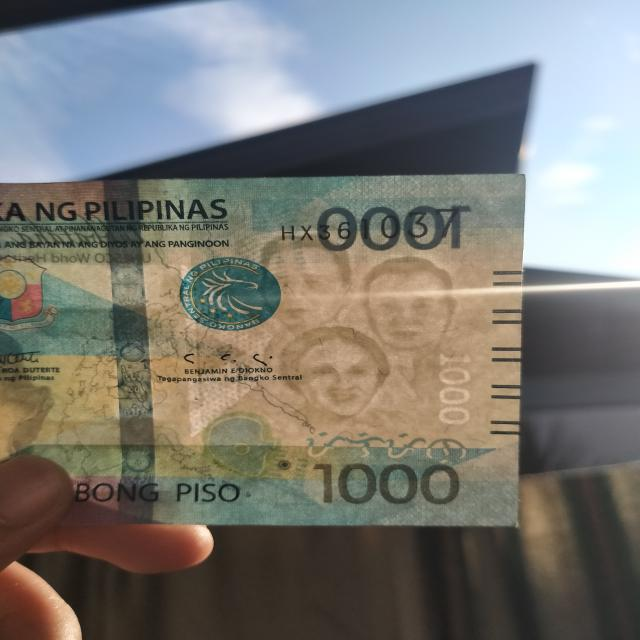security_thread: (100, 176, 159, 523)
see_through_mark: (301, 427, 476, 469)
serial_number: (276, 208, 458, 240)
value_watermark: (424, 342, 481, 433)
watermark: (249, 234, 446, 426)
